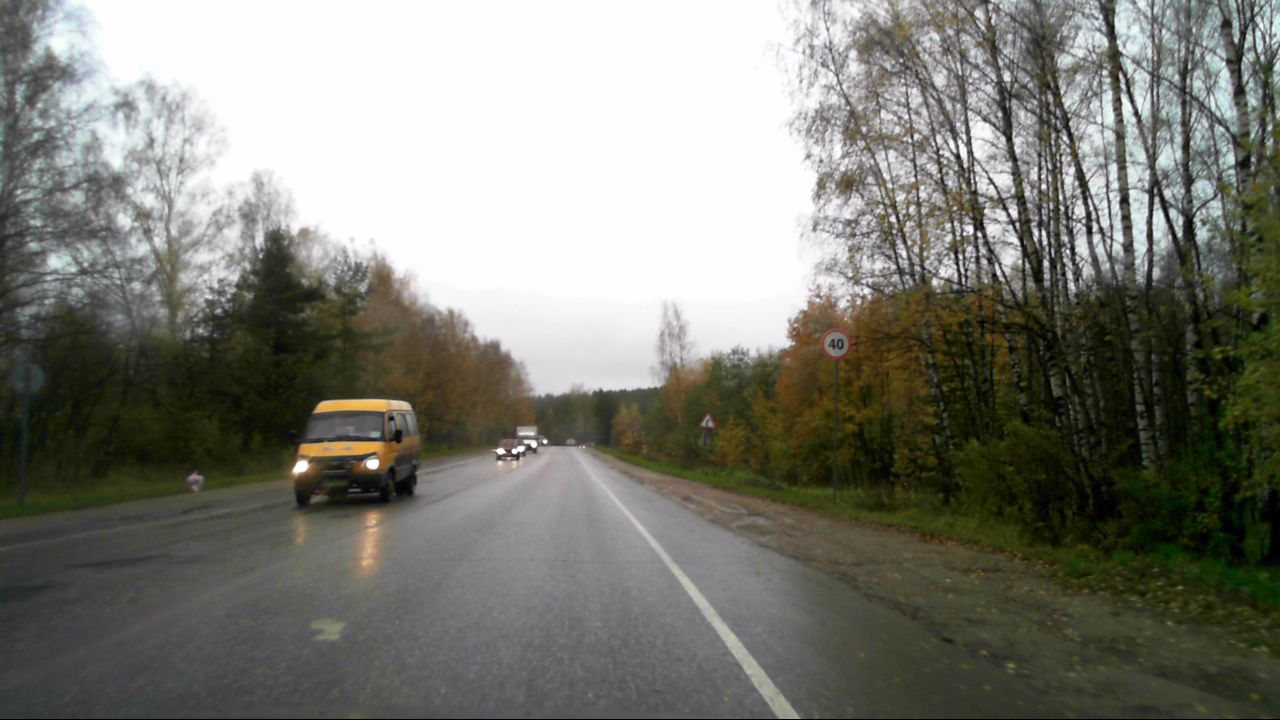speed_warning_40: (819, 327, 852, 361)
